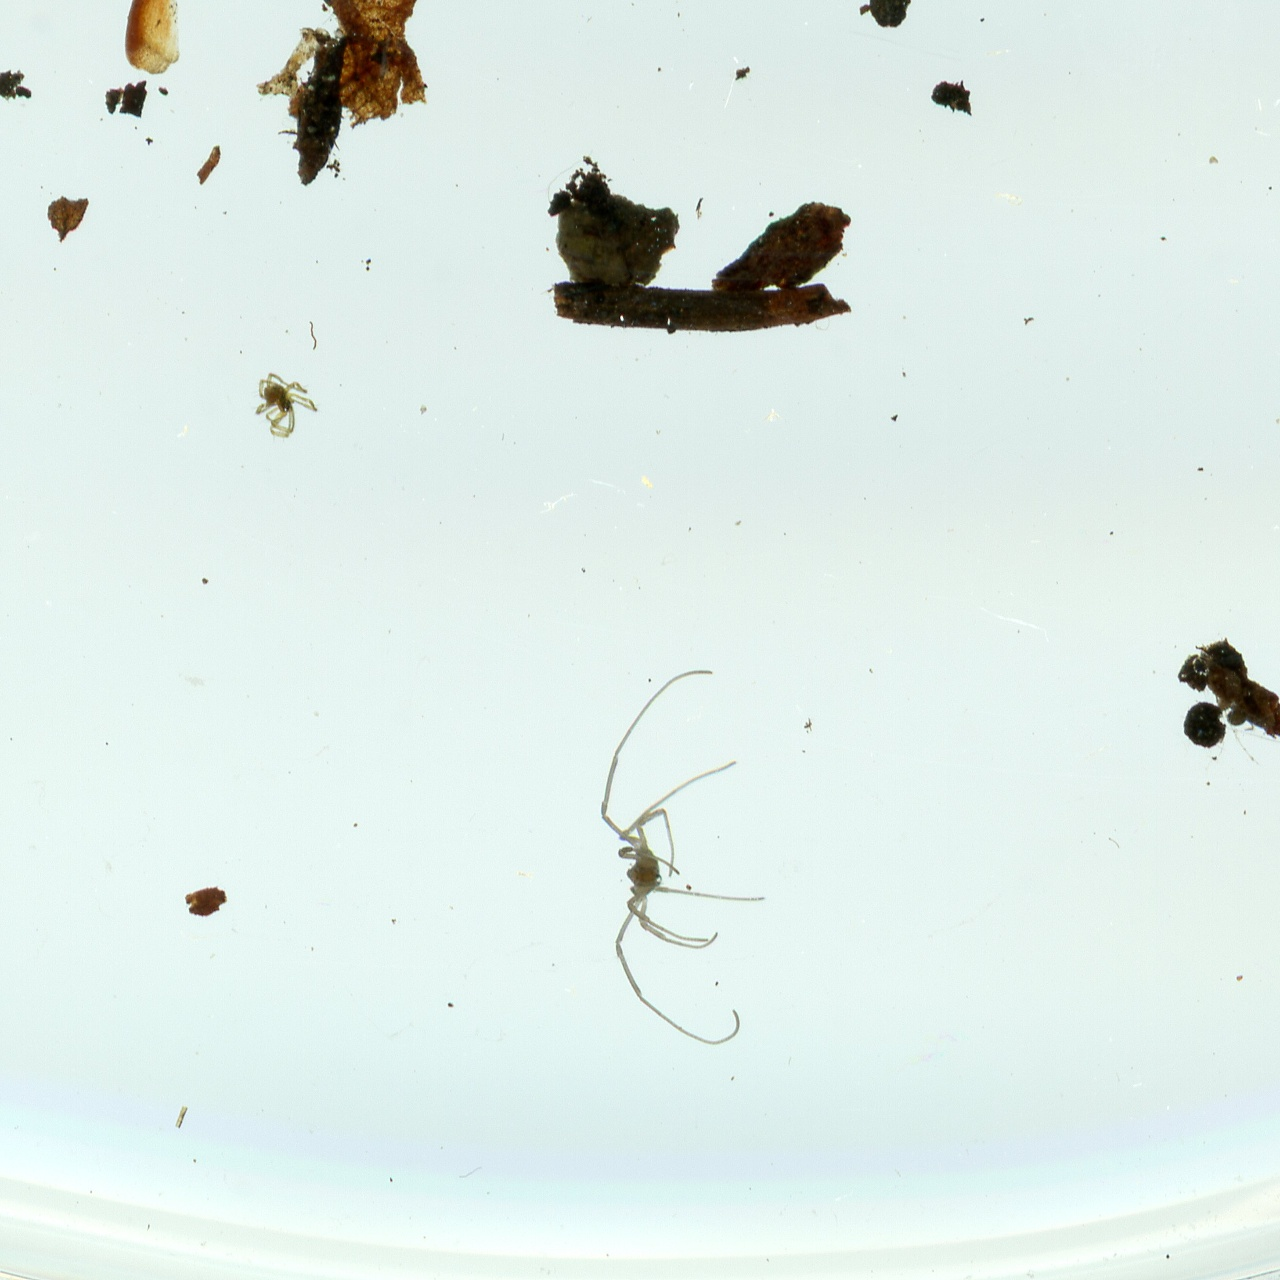arthropod: (594, 660, 771, 1053), (250, 366, 325, 445)
